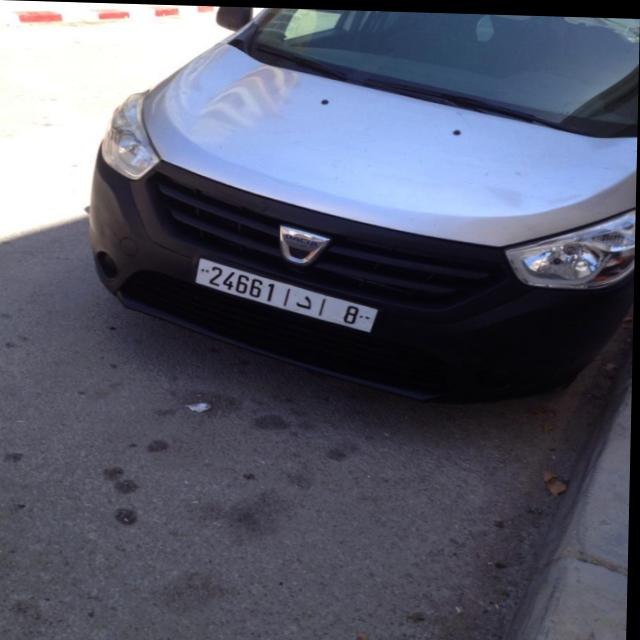License-Plate: (198, 258, 380, 329)
